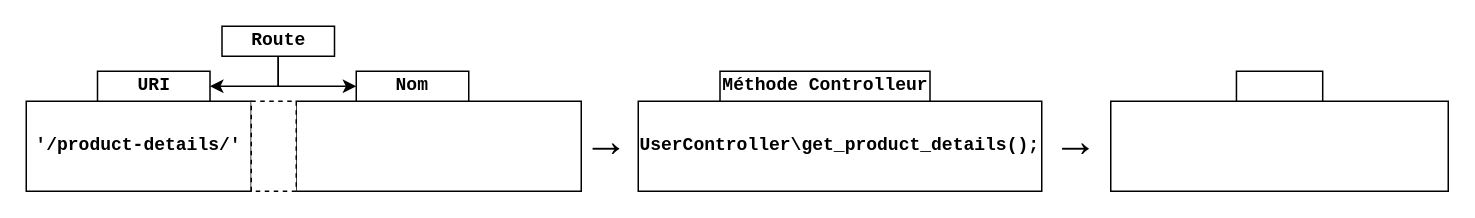
This 1475x218 diagram has some shape labels left out. The centre of each missing label's shape, as x and y in pixels:
route\'product.details': (x=438, y=145)
view\product-details.blade.php: (x=1278, y=145)
Vue: (x=1279, y=85)
